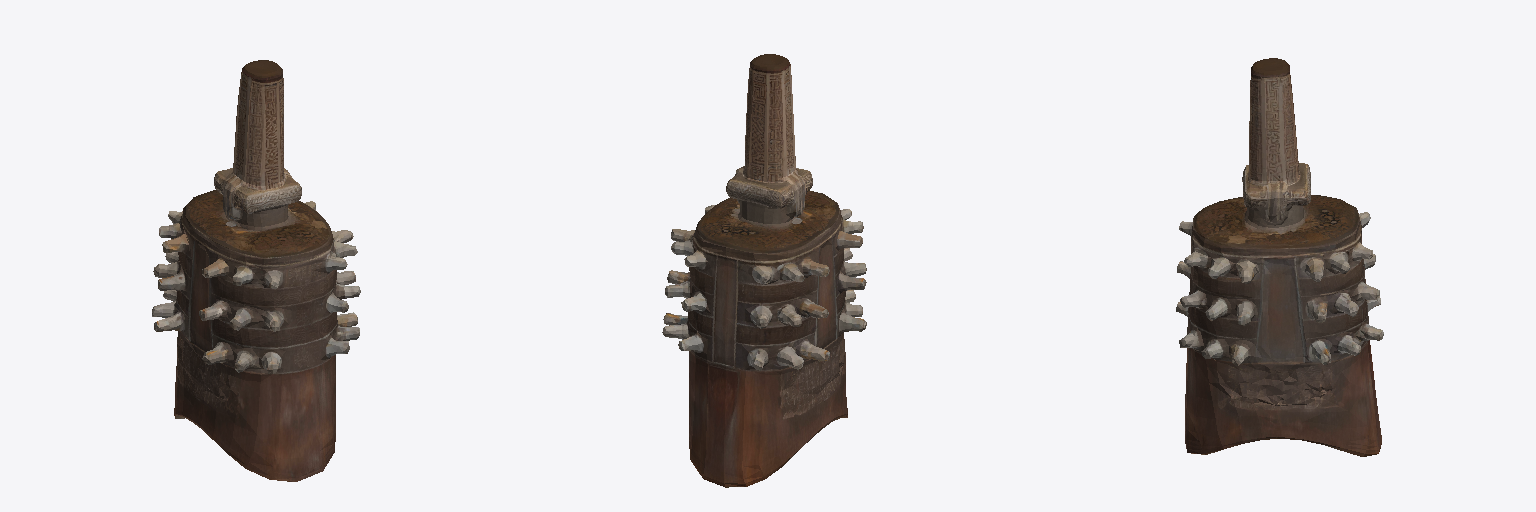
The picture shows the model from 3 angles: view 1: azimuth 30°, elevation 25°; view 2: azimuth 150°, elevation 25°; view 3: azimuth 270°, elevation 25°; orthographic projection.
Visible parts, largest first — view 1: tripo_node_3a8b981d-6a08-436b-8773-5b220ef780b8; view 2: tripo_node_3a8b981d-6a08-436b-8773-5b220ef780b8; view 3: tripo_node_3a8b981d-6a08-436b-8773-5b220ef780b8.
Part boxes in pixels (x1,y1,x2,y2): tripo_node_3a8b981d-6a08-436b-8773-5b220ef780b8: (152,60,360,481); tripo_node_3a8b981d-6a08-436b-8773-5b220ef780b8: (662,54,866,487); tripo_node_3a8b981d-6a08-436b-8773-5b220ef780b8: (1176,58,1383,456).
Size of the model in its own units: 0.4402 by 0.9967 by 0.489.
1 materials, 1 textured.